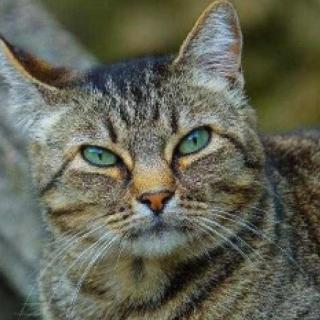cat: (0, 18, 275, 267)
nose: (130, 163, 178, 218)
